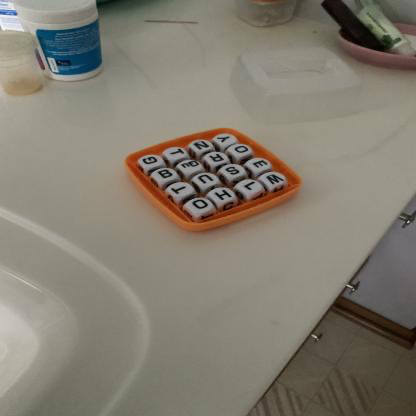b: (156, 169, 174, 181)
e: (252, 159, 271, 172)
g: (141, 155, 161, 168)
h: (214, 189, 234, 204)
l: (242, 181, 259, 194)
n: (191, 140, 212, 152)
o: (192, 198, 211, 213), (234, 145, 252, 156)
qu: (180, 160, 202, 173)
r: (209, 153, 228, 166)
s: (225, 166, 243, 178)
t: (169, 183, 190, 198), (167, 146, 188, 159)
u: (196, 174, 217, 188)
w: (264, 174, 286, 188)
y: (215, 133, 234, 146)
